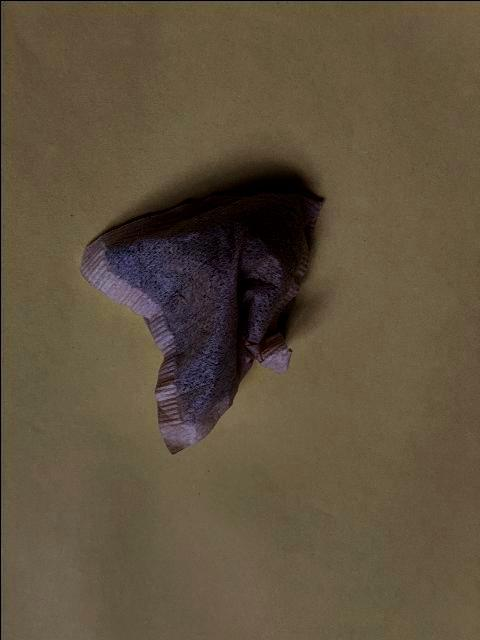teabag: (76, 189, 326, 456)
